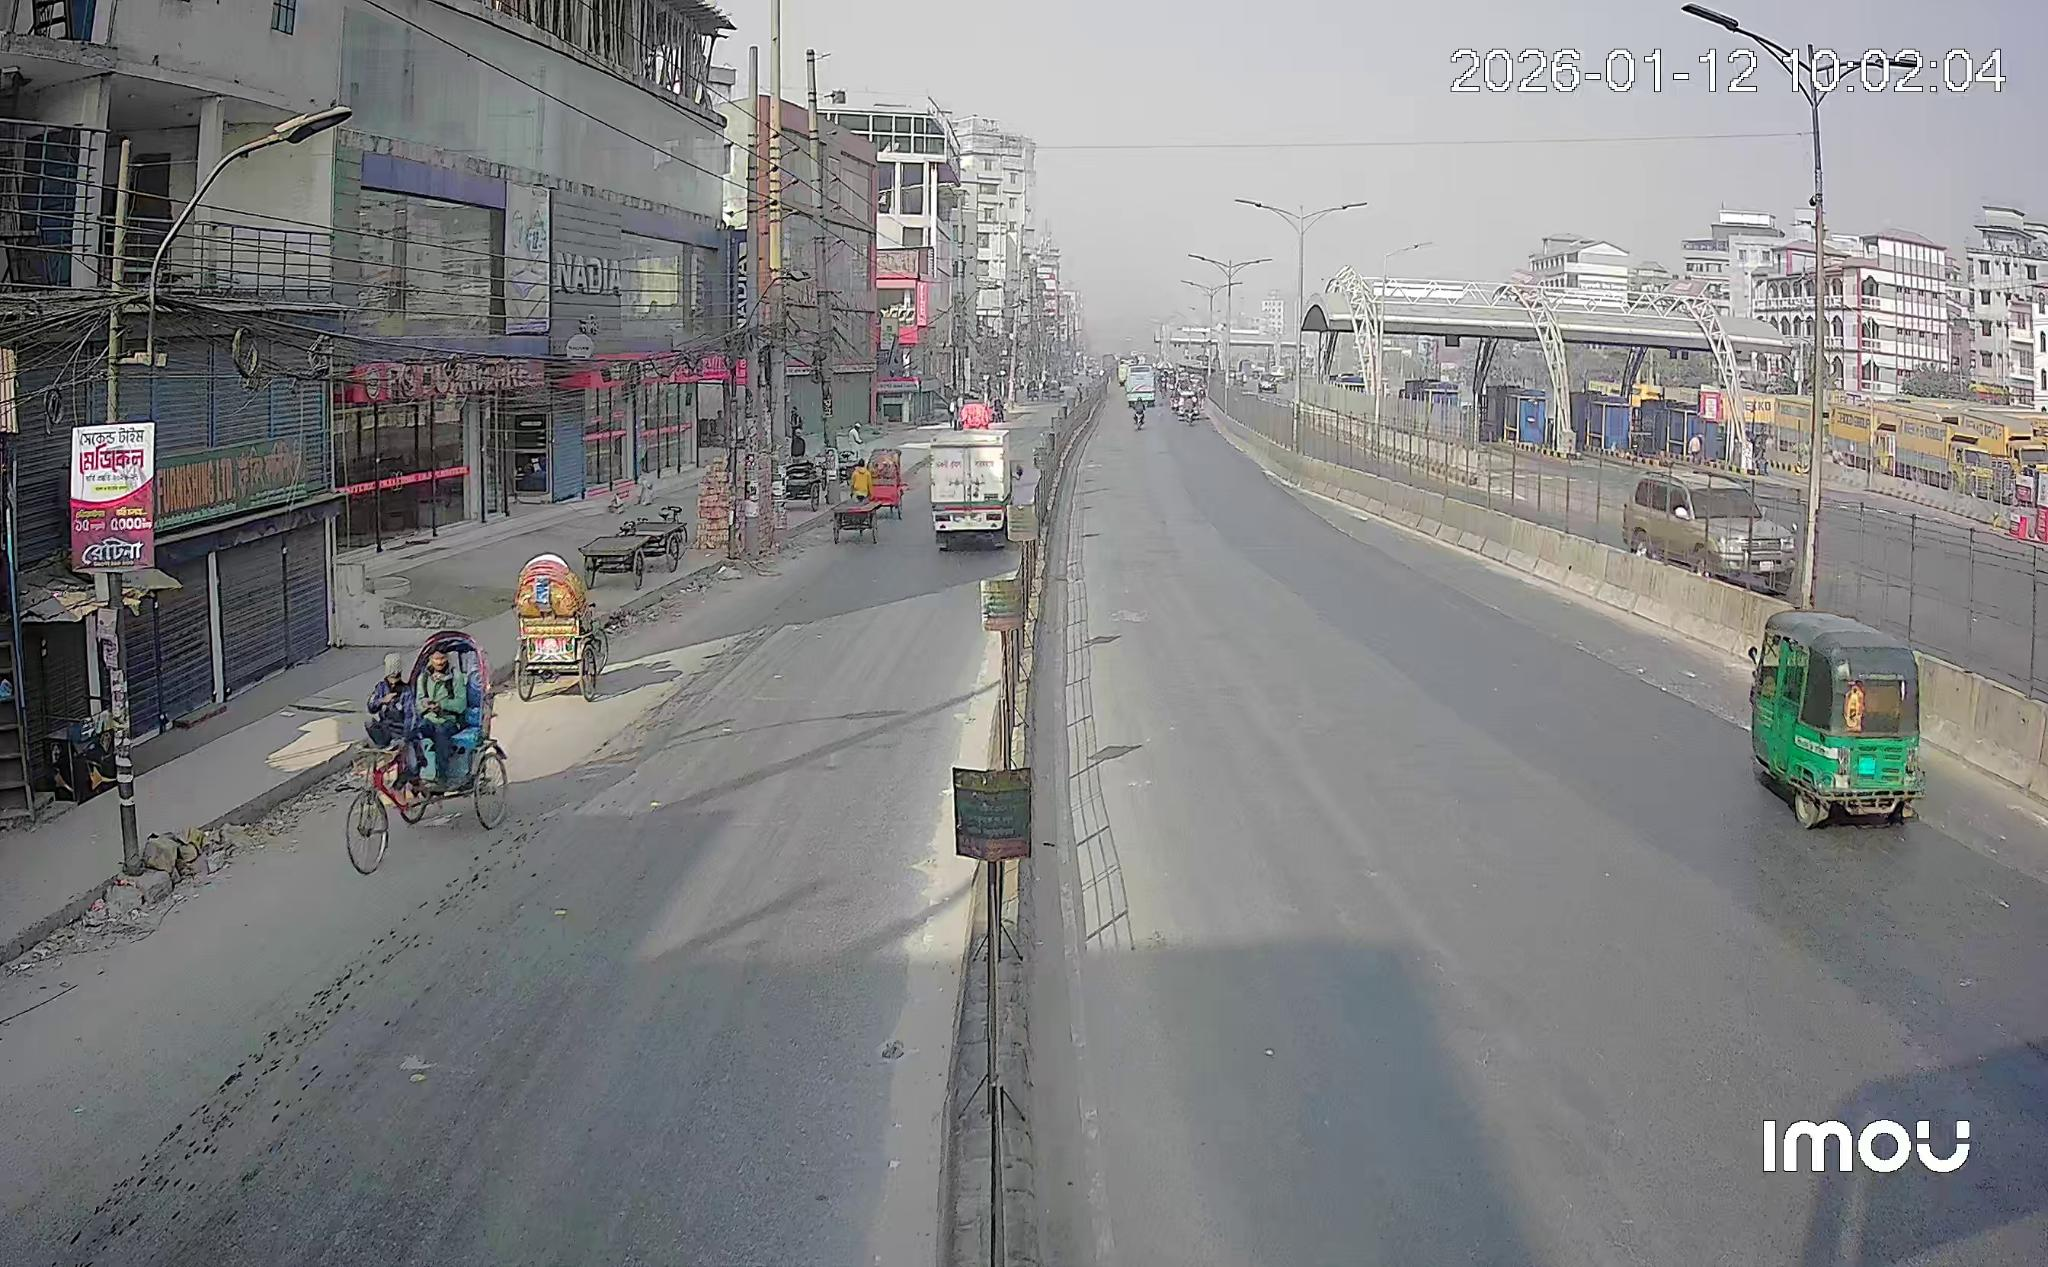Auto Rickshaw: (869, 449, 904, 518)
CNG-Tempo: (1748, 612, 1925, 828)
Cycle Rickshaw: (347, 631, 508, 875), (513, 554, 606, 699)
Jeep-SUV: (1622, 473, 1796, 594)
Truck: (927, 430, 1023, 549)
